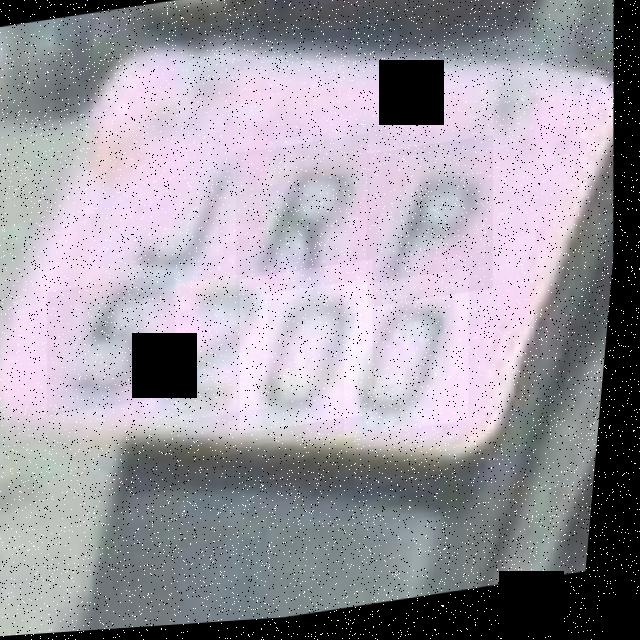0: (234, 263, 391, 438), (339, 274, 487, 445)
2: (139, 274, 285, 431)
5: (44, 274, 191, 417)
J: (104, 128, 242, 289)
P: (360, 141, 509, 313)
R: (229, 137, 384, 303)
